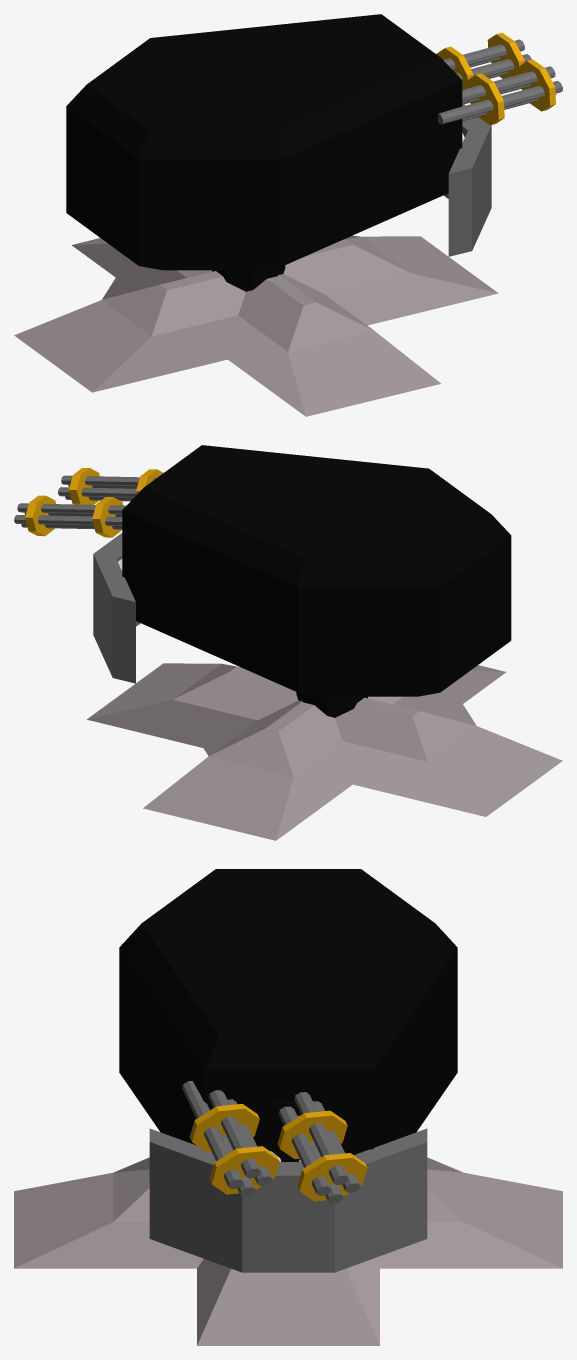
The model's file is torreta.glb.
3 renders of one model, top to bottom at view 1: azimuth 30°, elevation 25°; view 2: azimuth 150°, elevation 25°; view 3: azimuth 270°, elevation 25°, orthographic. The views are drawn at different scales.
Parts seen in each view (by area): view 1: Sentry, Cube, Cube.001, Cylinder.001, minigun.001, Cylinder.006, Cylinder, Cylinder.004, minigun, Cylinder.009, Cylinder.008, Cylinder.012; view 2: Sentry, Cube, Cube.001, Cylinder, Cylinder.011, Cylinder.009, Cylinder.008, minigun, minigun.001, Cylinder.002, Cylinder.004; view 3: Sentry, Cube, Cube.001, minigun, minigun.001, Cylinder.006, Cylinder.008, Cylinder.001, Cylinder.009, Cylinder.004, Cylinder.012.
Part boxes in pixels (bbox=[...]): Sentry: bbox=[66, 14, 462, 270]; Cube: bbox=[14, 235, 498, 416]; Cube.001: bbox=[444, 104, 491, 256]; Cylinder.001: bbox=[437, 81, 562, 124]; minigun.001: bbox=[518, 59, 555, 111]; Cylinder.006: bbox=[467, 73, 504, 125]; Cylinder: bbox=[212, 265, 285, 291]; Cylinder.004: bbox=[462, 66, 555, 102]; minigun: bbox=[487, 32, 524, 78]; Cylinder.009: bbox=[443, 39, 524, 69]; Cylinder.008: bbox=[436, 46, 473, 89]; Cylinder.012: bbox=[456, 54, 531, 82]; Sentry: bbox=[122, 445, 511, 696]; Cube: bbox=[87, 663, 562, 840]; Cube.001: bbox=[93, 533, 140, 683]; Cylinder: bbox=[296, 692, 367, 717]; Cylinder.011: bbox=[14, 515, 122, 525]; Cylinder.009: bbox=[17, 503, 125, 514]; Cylinder.008: bbox=[92, 497, 122, 537]; minigun: bbox=[25, 495, 55, 536]; minigun.001: bbox=[69, 468, 99, 504]; Cylinder.002: bbox=[58, 487, 136, 497]; Cylinder.004: bbox=[61, 475, 156, 486]; Sentry: bbox=[119, 869, 457, 1161]; Cube: bbox=[14, 1157, 562, 1345]; Cube.001: bbox=[149, 1128, 427, 1272]; minigun: bbox=[297, 1153, 367, 1201]; minigun.001: bbox=[209, 1146, 279, 1194]; Cylinder.006: bbox=[189, 1104, 259, 1152]; Cylinder.008: bbox=[277, 1110, 347, 1159]; Cylinder.001: bbox=[182, 1081, 243, 1189]; Cylinder.009: bbox=[294, 1092, 348, 1184]; Cylinder.004: bbox=[208, 1090, 260, 1178]; Cylinder.012: bbox=[278, 1106, 331, 1195].
Size of the model in its own units: 2.42 by 1.13 by 2.
